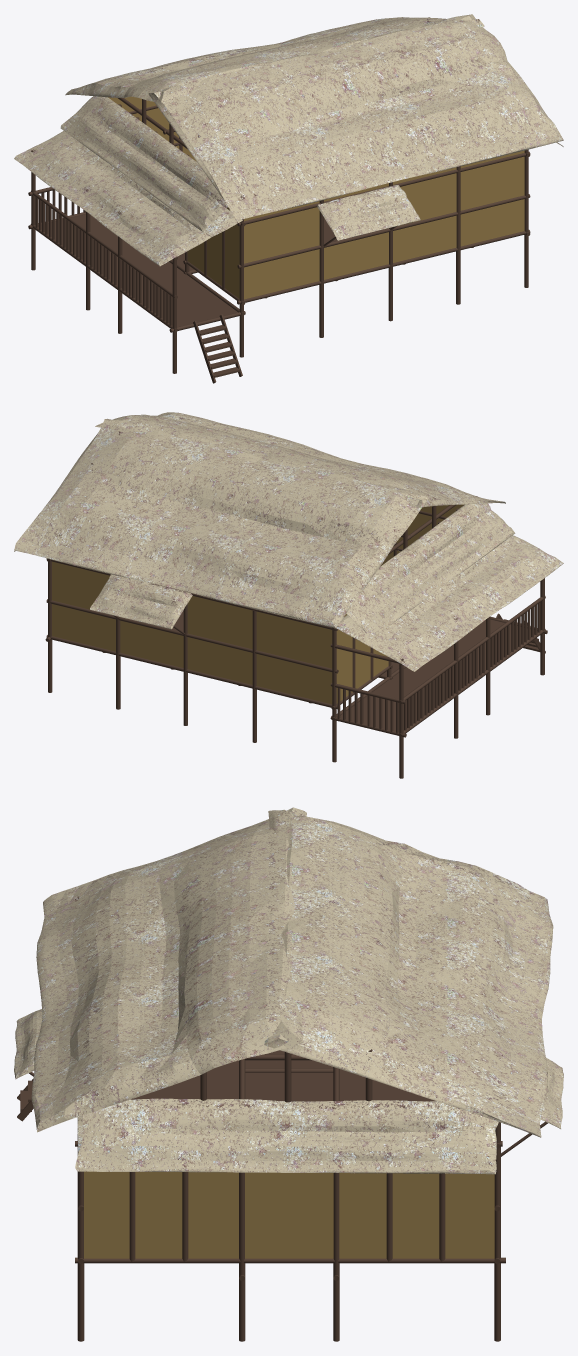
The picture shows the model from 3 angles, top to bottom: view 1: azimuth 30°, elevation 25°; view 2: azimuth 150°, elevation 25°; view 3: azimuth 270°, elevation 25°; orthographic projection. The views are drawn at different scales.
Parts seen in each view (by area): view 1: 4; view 2: 4; view 3: 4.
Boxes of the visible parts, bbox=[...] form: 4: bbox=[14, 14, 563, 383]; 4: bbox=[14, 412, 563, 778]; 4: bbox=[14, 807, 563, 1341].
Size of the model in its own units: 35.85 by 18.49 by 28.31.
6 materials, 6 textured.
